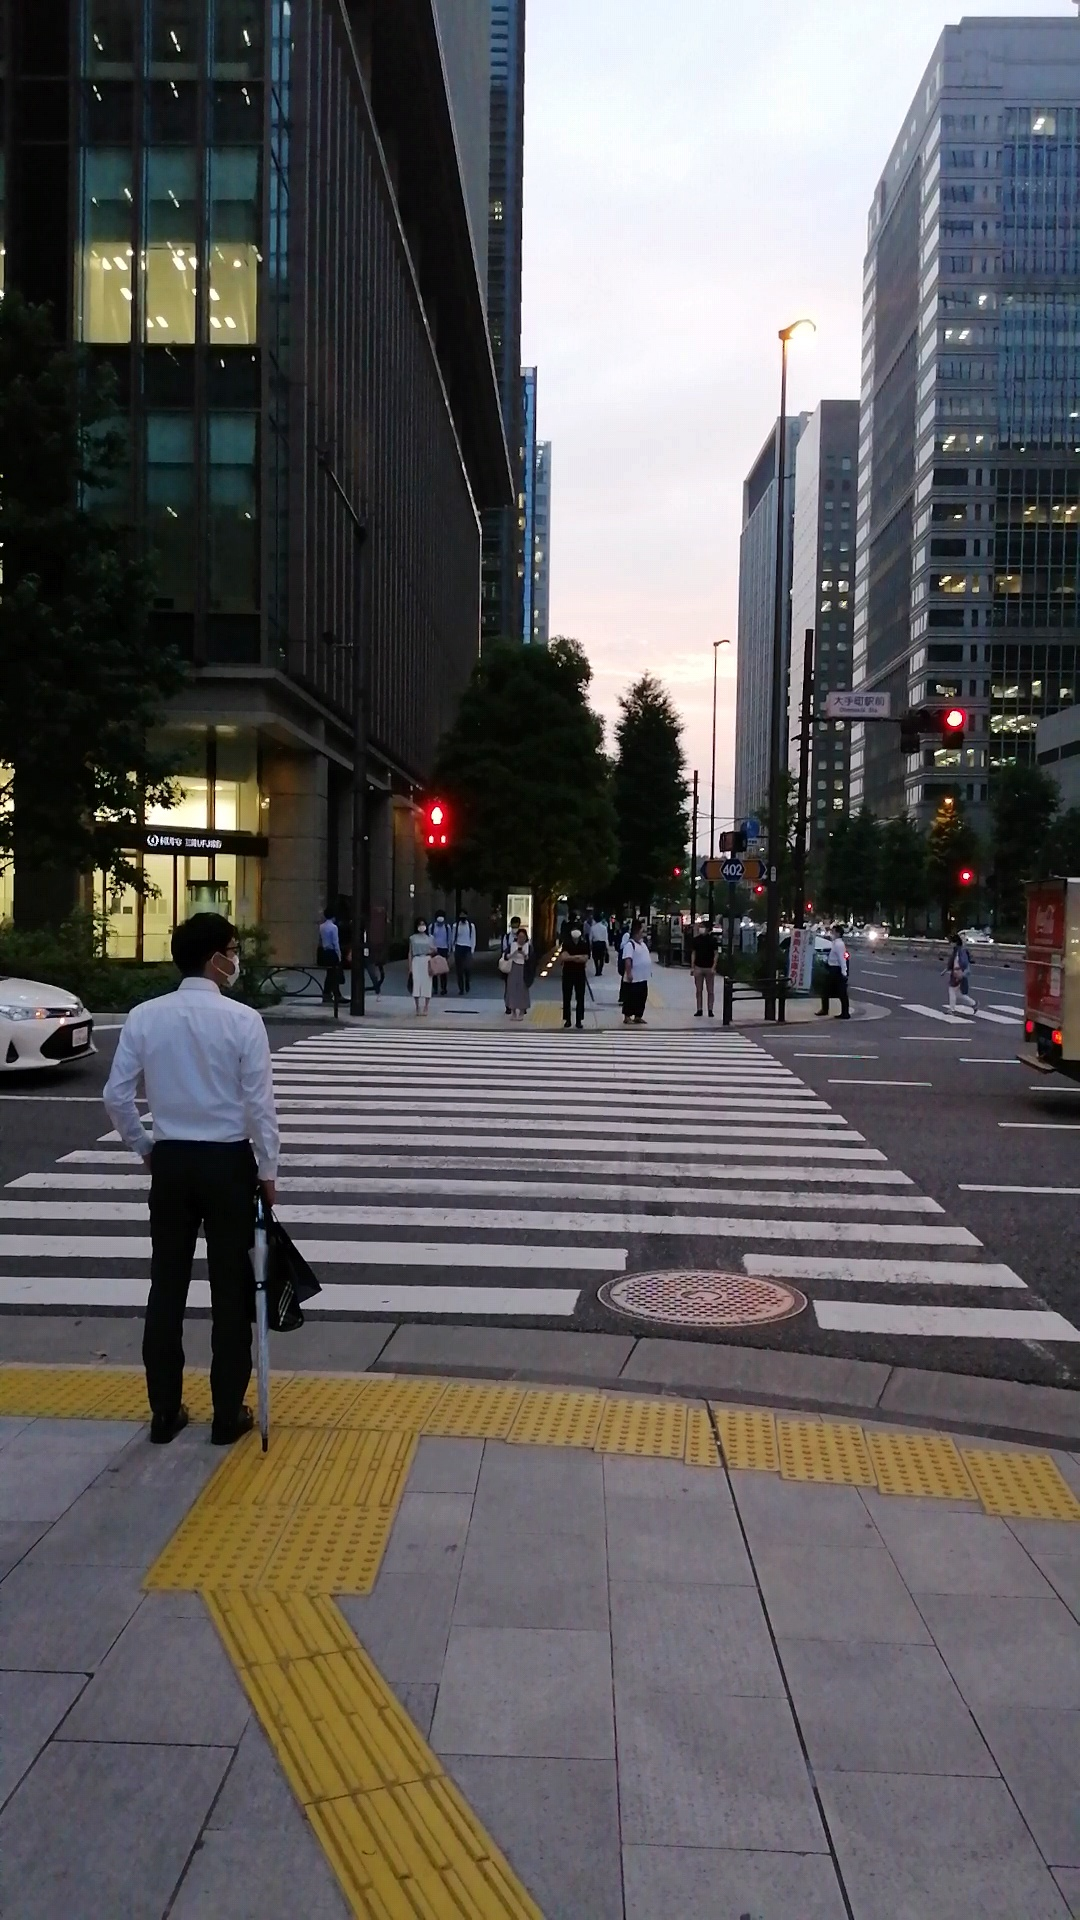red: (422, 796, 454, 851)
